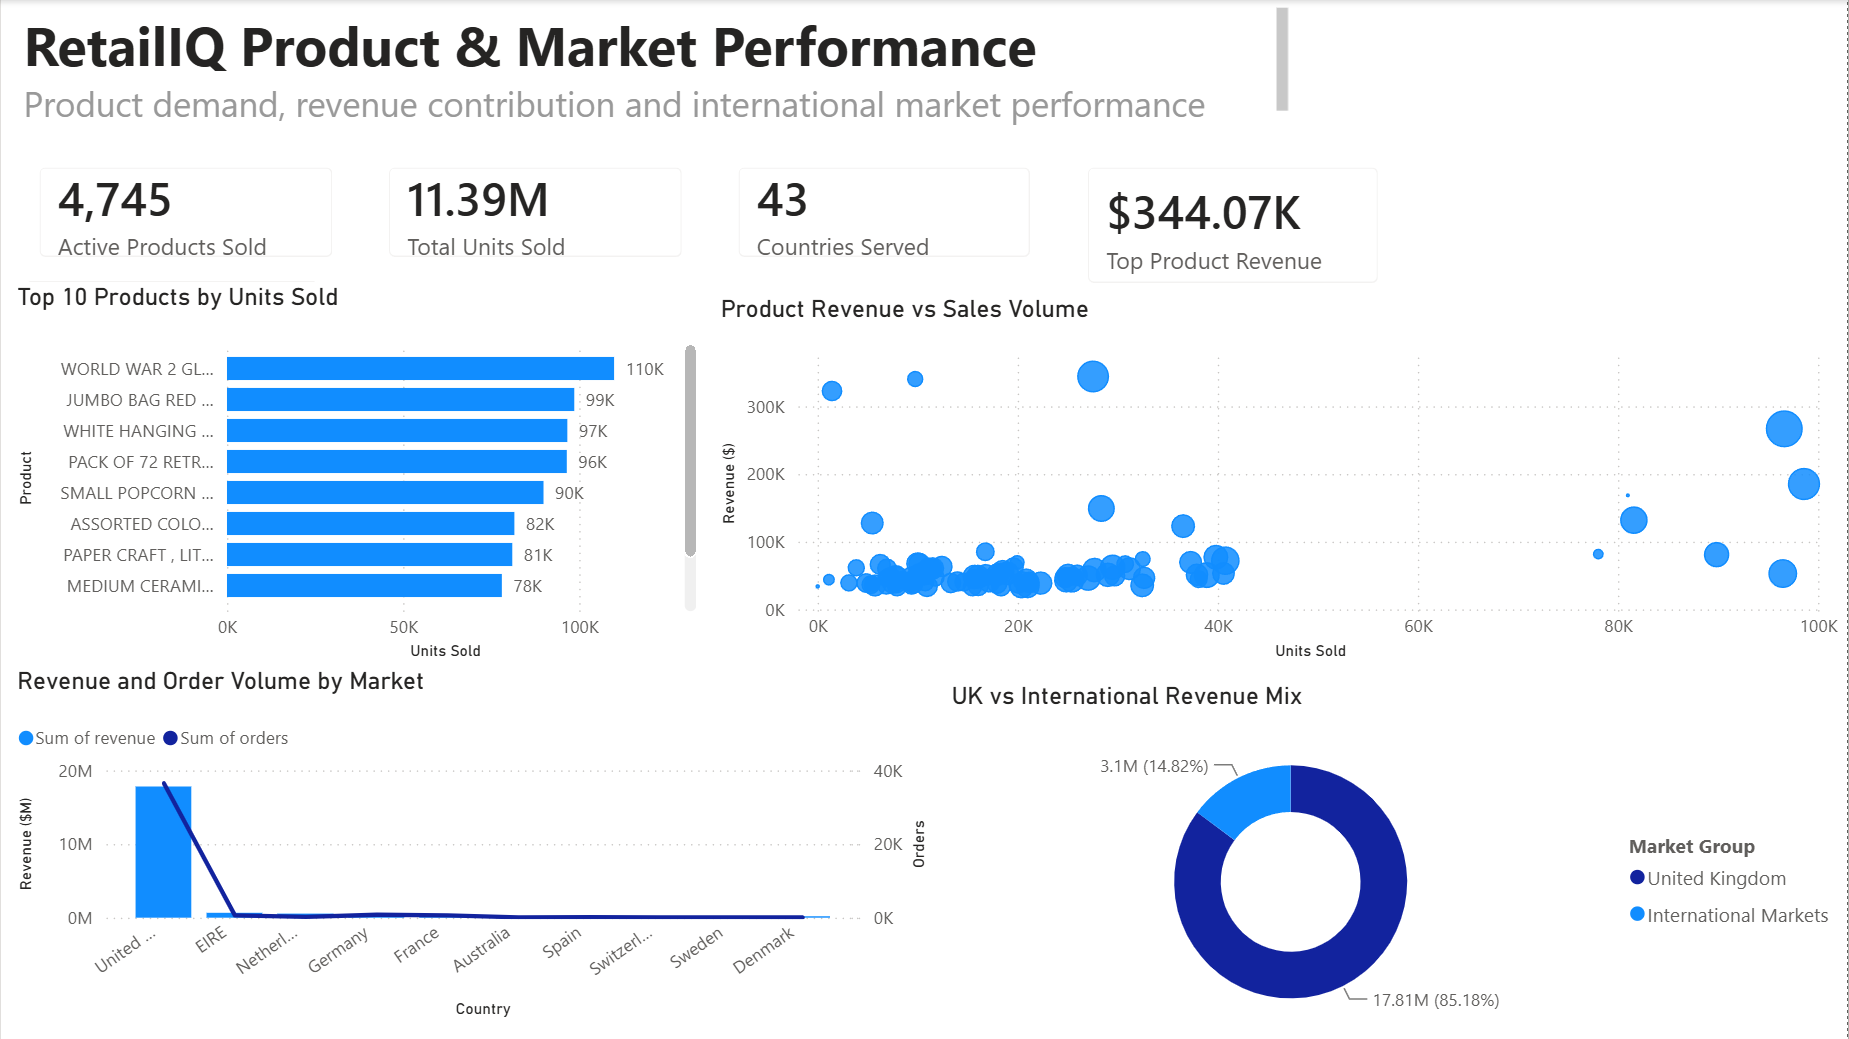

The dashboard page shown, as its layout file describes it:
{"tool":"powerbi","page":{"name":"Product & Market Performance","canvas":[1280,720],"ordinal":2},"visuals":[{"type":"textbox","box":[10.4,0,886.5,101.8],"z":0},{"type":"cardVisual","fields":{"Data":["Product_Performance.Total Products"]},"box":[0,88.3,236.9,124.7],"z":1000},{"type":"cardVisual","fields":{"Data":["Product_Performance.Total Products"]},"box":[9.6,98.7,237.1,96.3],"z":2000},{"type":"cardVisual","fields":{"Data":["Product_Performance.Countries Served"]},"box":[493.4,98.7,237.1,96.3],"z":3000},{"type":"cardVisual","fields":{"Data":["Product_Performance.Total Units Sold"]},"box":[251.5,98.7,237.1,96.3],"z":4000},{"type":"cardVisual","fields":{"Data":["Product_Performance.Top Product Revenue"]},"box":[735.3,98.7,235.9,114.3],"z":5000},{"type":"barChart","title":"Top 10 Products by Units Sold","fields":{"Category":["Product_Performance.description"],"Y":["Sum(Product_Performance.units_sold)"]},"box":[6.2,203.7,480.1,271.2],"z":6000},{"type":"scatterChart","title":"Product Revenue vs Sales Volume","fields":{"X":["Sum(Product_Performance.units_sold)"],"Y":["Sum(Product_Performance.revenue)"],"Size":["Sum(Product_Performance.orders)"],"Category":["Product_Performance.description"]},"box":[493.6,203.7,787,257.5],"z":7000},{"type":"lineStackedColumnComboChart","title":"Revenue and Order Volume by Market","fields":{"Category":["Country_Performance.country"],"Y":["Sum(Country_Performance.revenue)"],"Y2":["Sum(Country_Performance.orders)"]},"box":[6.2,461.4,640.2,248.4],"z":8000},{"type":"donutChart","title":"UK vs International Revenue Mix","fields":{"Category":["Country_Performance.Market Group"],"Y":["Sum(Country_Performance.revenue)"]},"box":[653.7,471.8,627,248],"z":8001}]}

Visuals, with their boxes in screenshot pixels (x1, y1, x2, y2), scaled from the page's 1280x720 canvas onto the 1849x1039 screenshot:
textbox: <box>15,0,1296,147</box>
cardVisual - Product_Performance.Total Products: <box>0,127,342,307</box>
cardVisual - Product_Performance.Total Products: <box>14,142,356,281</box>
cardVisual - Product_Performance.Countries Served: <box>713,142,1055,281</box>
cardVisual - Product_Performance.Total Units Sold: <box>363,142,706,281</box>
cardVisual - Product_Performance.Top Product Revenue: <box>1062,142,1403,307</box>
"Top 10 Products by Units Sold" barChart: <box>9,294,702,685</box>
"Product Revenue vs Sales Volume" scatterChart: <box>713,294,1848,666</box>
"Revenue and Order Volume by Market" lineStackedColumnComboChart: <box>9,666,934,1024</box>
"UK vs International Revenue Mix" donutChart: <box>944,681,1848,1038</box>
